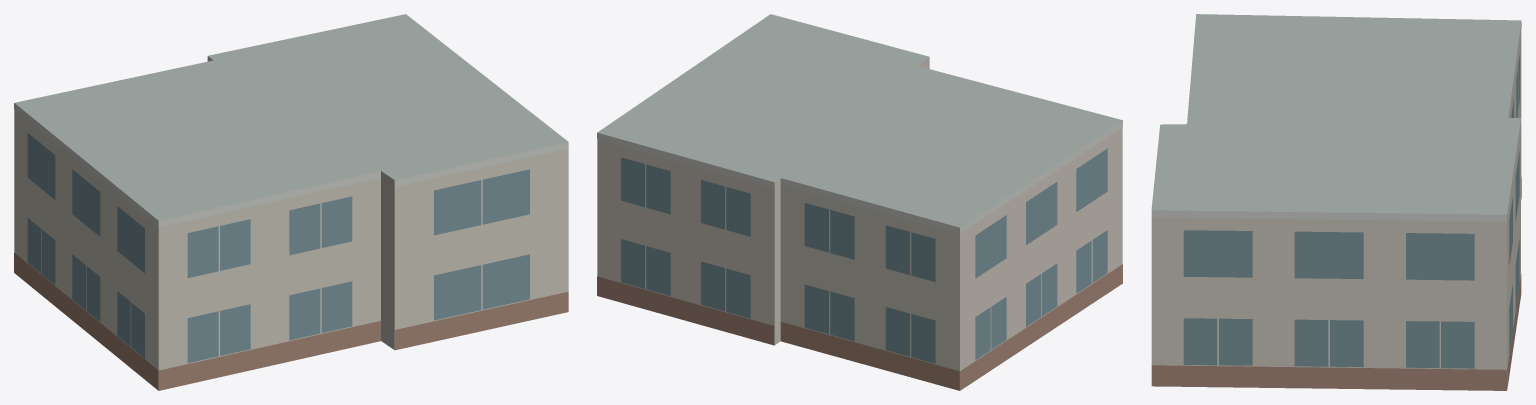
Rendered from survey-upis-33013627.glb.
3 views of the same model, side by side, from view 1: azimuth 30°, elevation 25°; view 2: azimuth 150°, elevation 25°; view 3: azimuth 270°, elevation 25° (orthographic). The views are drawn at different scales.
Visible parts, largest first — view 1: survey-upis-33013627.tmp; view 2: survey-upis-33013627.tmp; view 3: survey-upis-33013627.tmp.
Part boxes in pixels (x1,y1,x2,y2): survey-upis-33013627.tmp: (14,14,568,390); survey-upis-33013627.tmp: (597,14,1122,390); survey-upis-33013627.tmp: (1151,14,1521,390).
Size of the model in its own units: 14.93 by 6.1 by 11.63.
